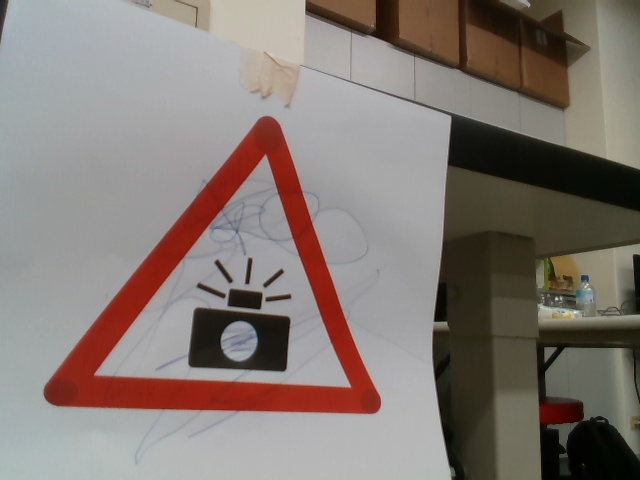camera: (41, 113, 383, 418)
